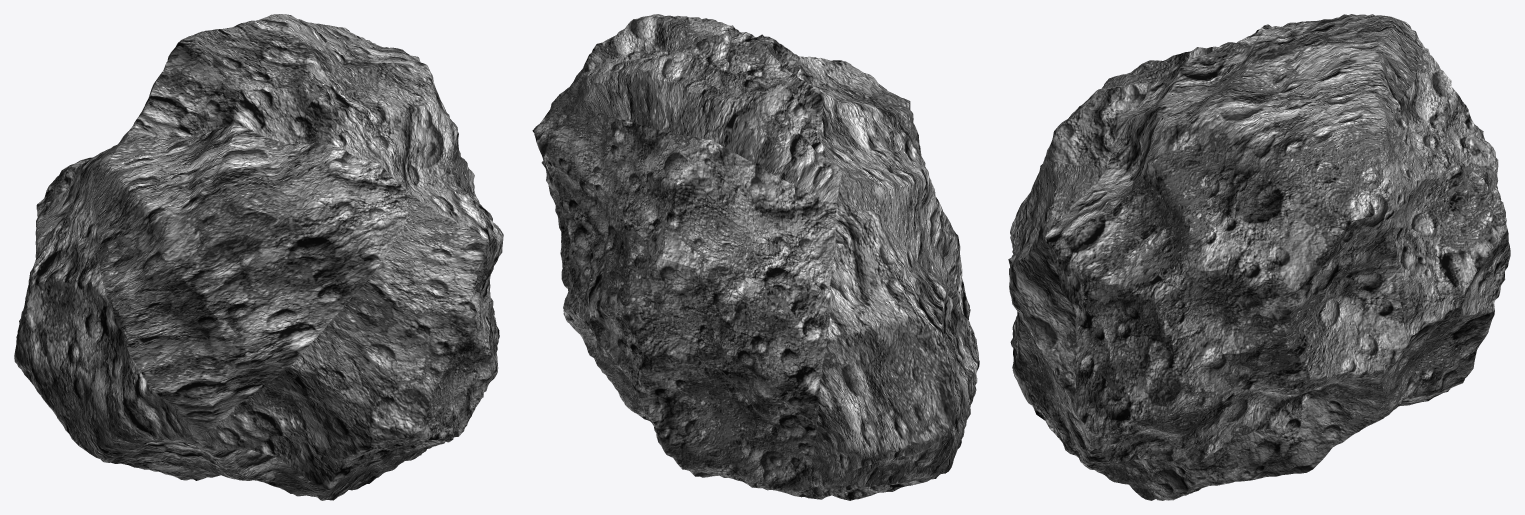
Rendered from asteroids.obj.
3 renders of one model, left to right at view 1: azimuth 30°, elevation 25°; view 2: azimuth 150°, elevation 25°; view 3: azimuth 270°, elevation 25°, orthographic. The views are drawn at different scales.
Visible parts, largest first — view 1: rock.001; view 2: rock.001; view 3: rock.001.
Part boxes in pixels (x1,y1,x2,y2): rock.001: (14,14,503,500); rock.001: (532,14,979,500); rock.001: (1008,14,1510,500).
Size of the model in its own units: 3.1 by 2.9 by 2.92.
1 material, 1 textured.
